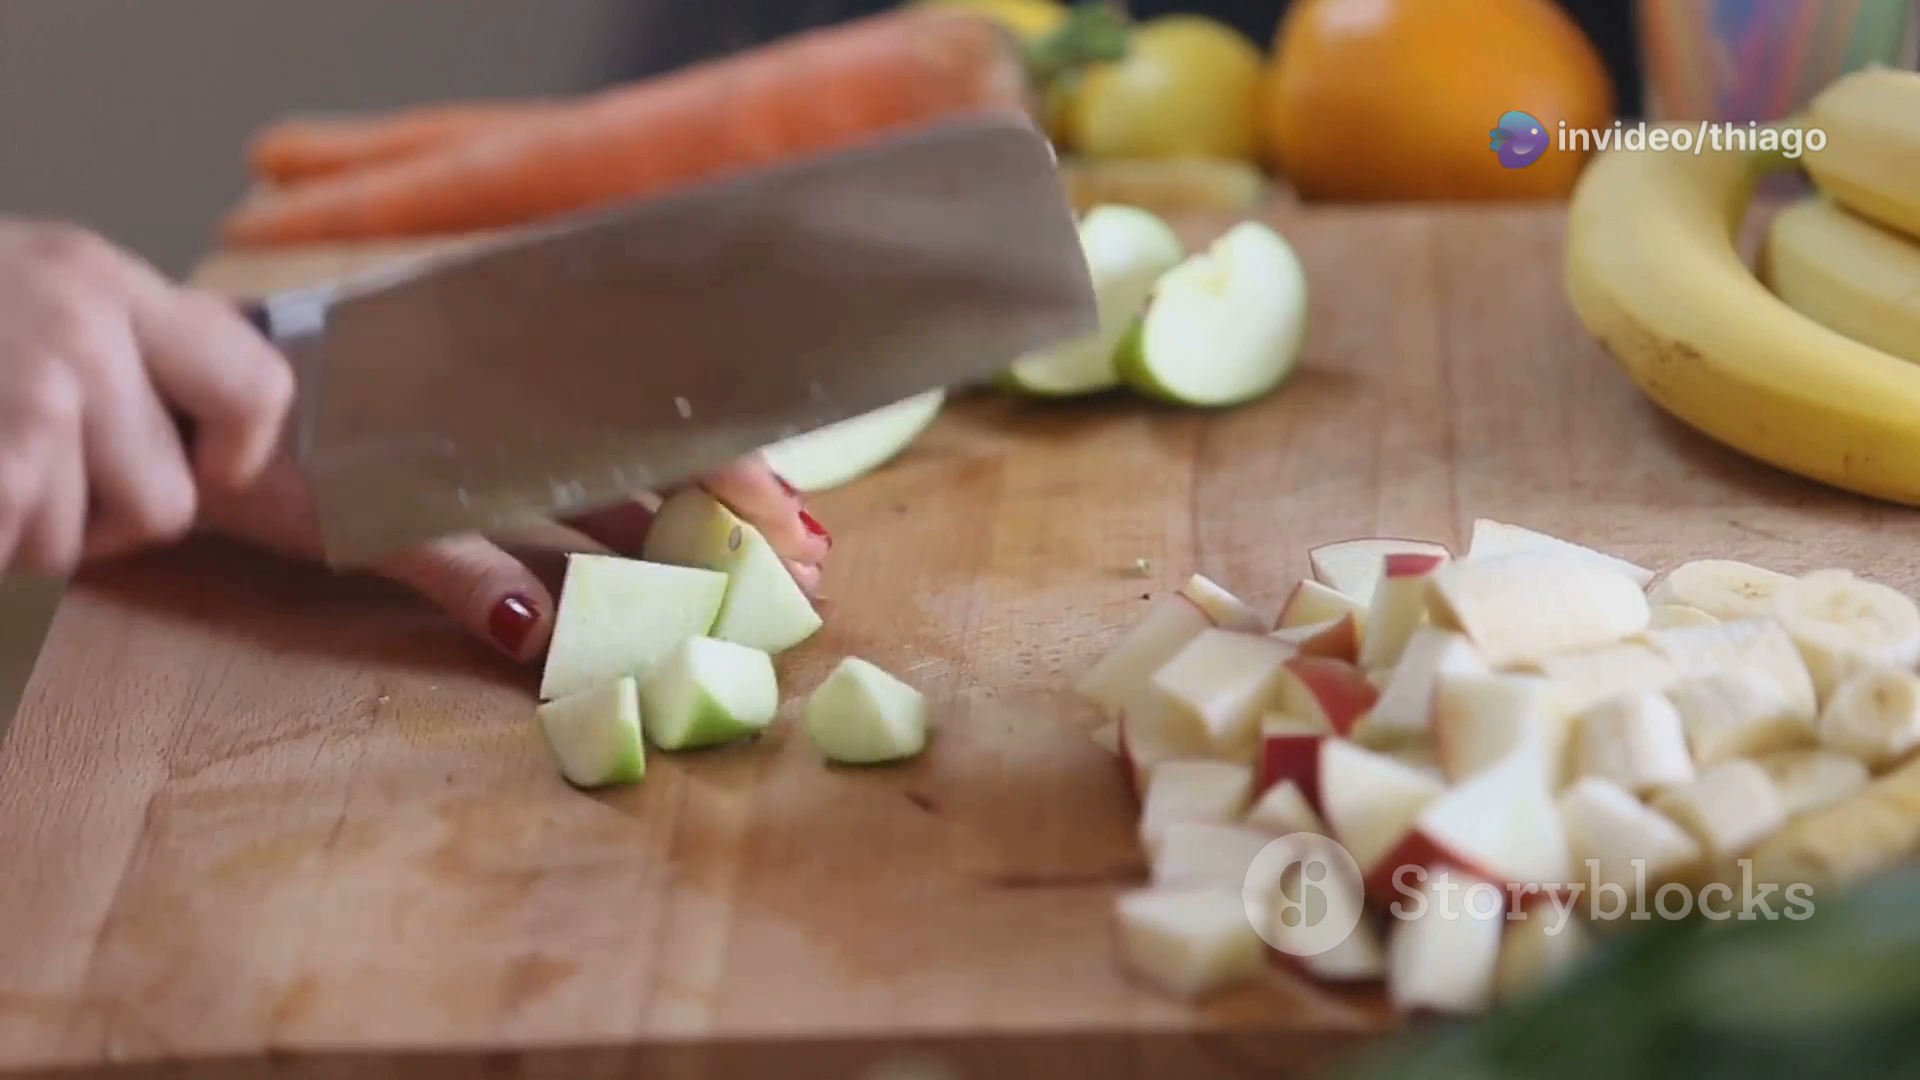cortante: (261, 117, 1100, 576)
